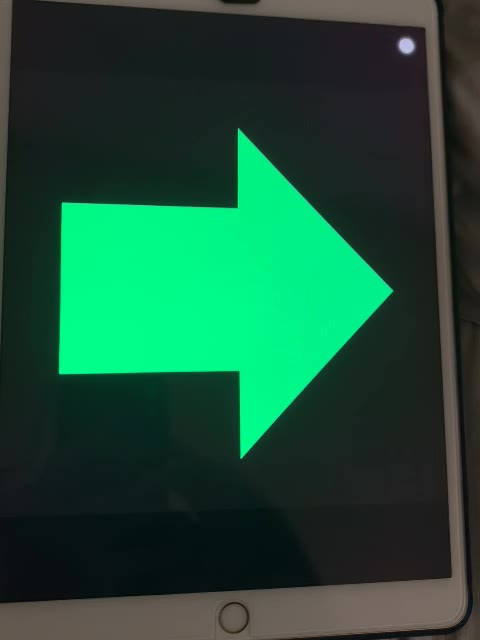right: (56, 116, 400, 464)
